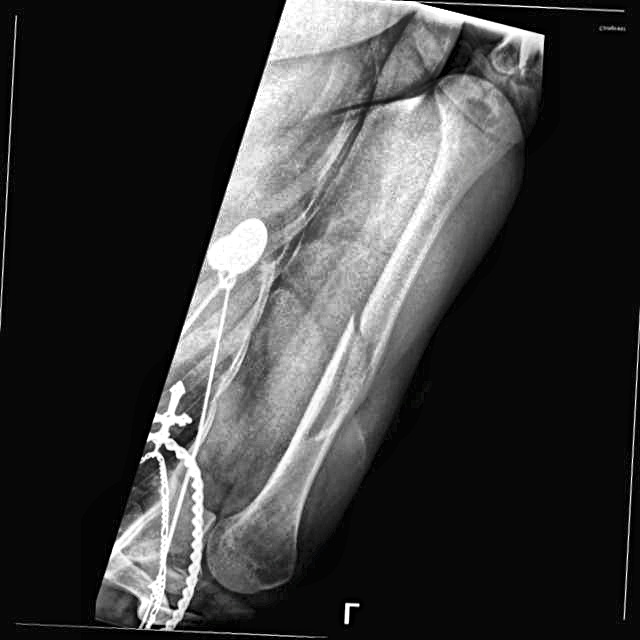Spiral: (323, 294, 403, 428)
